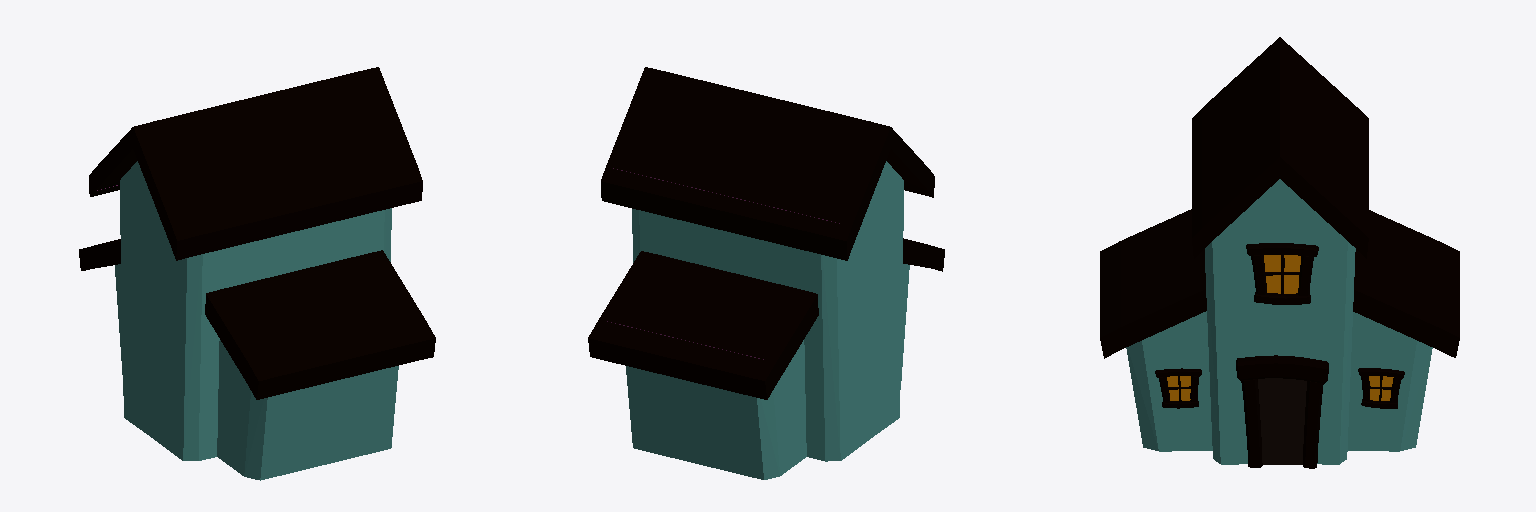
Rendered from house2.obj.
3 views of the same model, side by side, from view 1: azimuth 30°, elevation 25°; view 2: azimuth 150°, elevation 25°; view 3: azimuth 270°, elevation 25° (orthographic).
Parts seen in each view (by area): view 1: Cube.001_Cube.003; view 2: Cube.001_Cube.003; view 3: Cube.001_Cube.003.
Boxes of the visible parts, x1=… form: Cube.001_Cube.003: x1=79, y1=67, x2=435, y2=480; Cube.001_Cube.003: x1=588, y1=67, x2=944, y2=479; Cube.001_Cube.003: x1=1100, y1=37, x2=1459, y2=468.
Size of the model in its own units: 2.4 by 2.98 by 3.05.